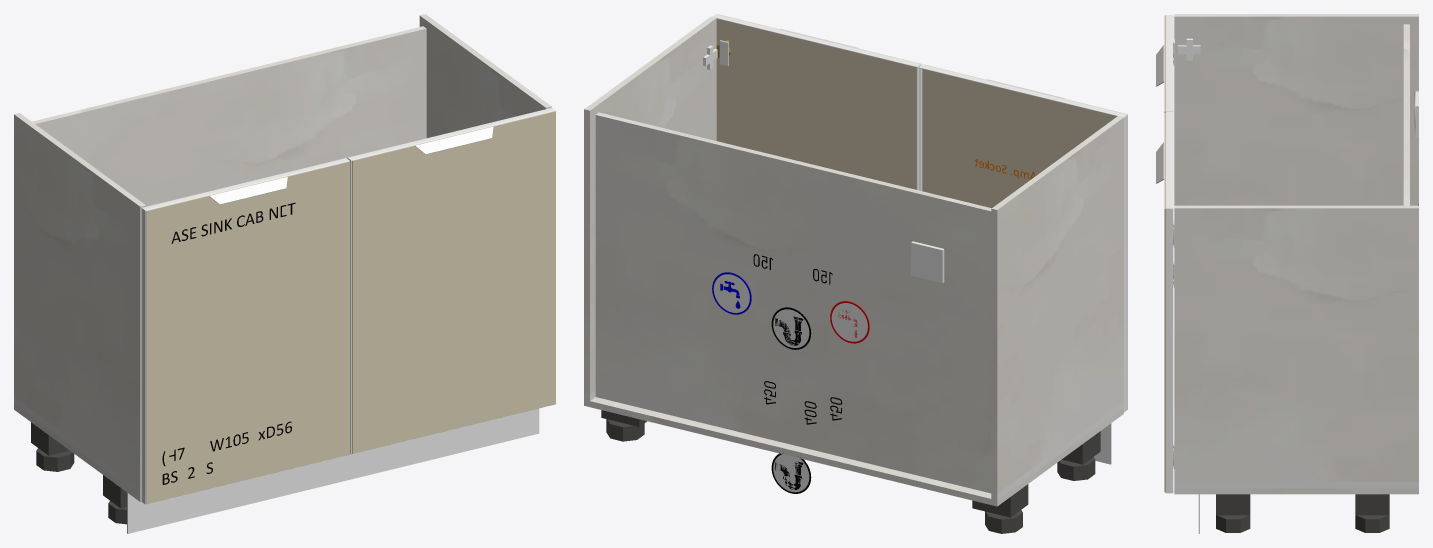
Rendered from BSC2HS_EH (H720xW1050xD560).glb.
3 renders of one model, left to right at view 1: azimuth 30°, elevation 25°; view 2: azimuth 150°, elevation 25°; view 3: azimuth 270°, elevation 25°, orthographic. The views are drawn at different scales.
Size of what is drawn, in the model's own units: 1.05 by 0.82 by 0.5999.
Materials: 15 (1 with a texture image).
